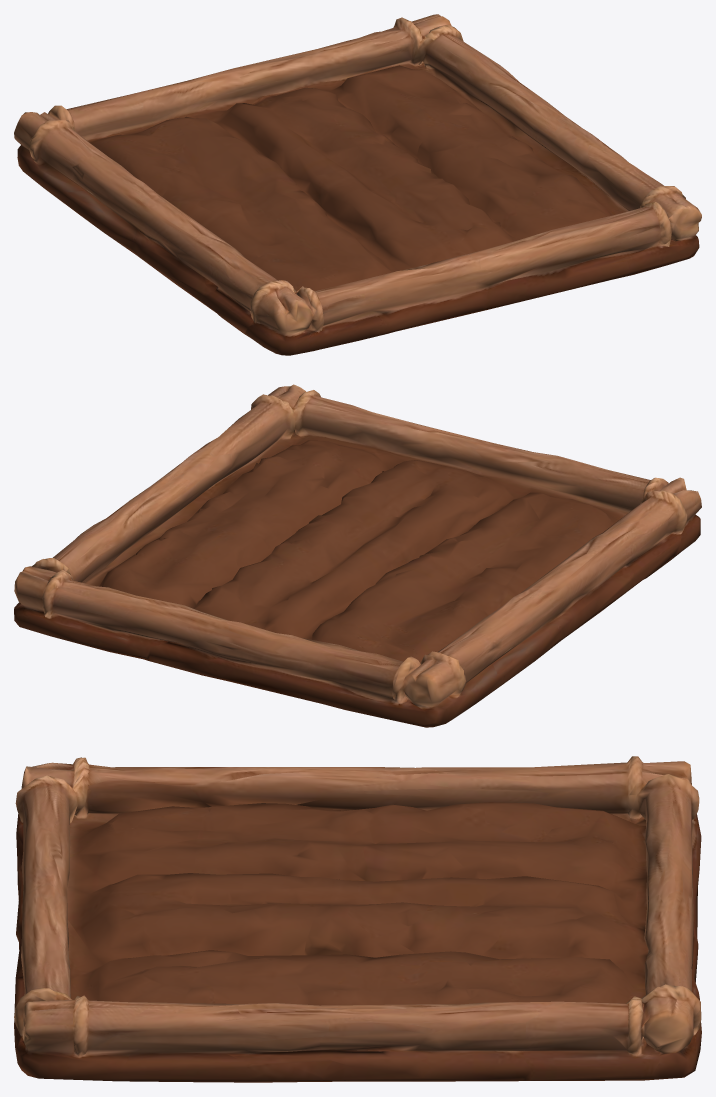
File: field_plot_l1.glb
3 renders of one model, top to bottom at view 1: azimuth 30°, elevation 25°; view 2: azimuth 150°, elevation 25°; view 3: azimuth 270°, elevation 25°, orthographic. The views are drawn at different scales.
Parts seen in each view (by area): view 1: tripo_node_1547a90d-ac42-45af-86b9-b064a0865b28; view 2: tripo_node_1547a90d-ac42-45af-86b9-b064a0865b28; view 3: tripo_node_1547a90d-ac42-45af-86b9-b064a0865b28.
Part boxes in pixels (x1,y1,x2,y2): tripo_node_1547a90d-ac42-45af-86b9-b064a0865b28: (14,14,701,355); tripo_node_1547a90d-ac42-45af-86b9-b064a0865b28: (14,384,701,727); tripo_node_1547a90d-ac42-45af-86b9-b064a0865b28: (14,756,701,1082).
Bounding box in the file's own units: 0.8978 × 0.1183 × 0.978.
Materials: 1 (1 with a texture image).
